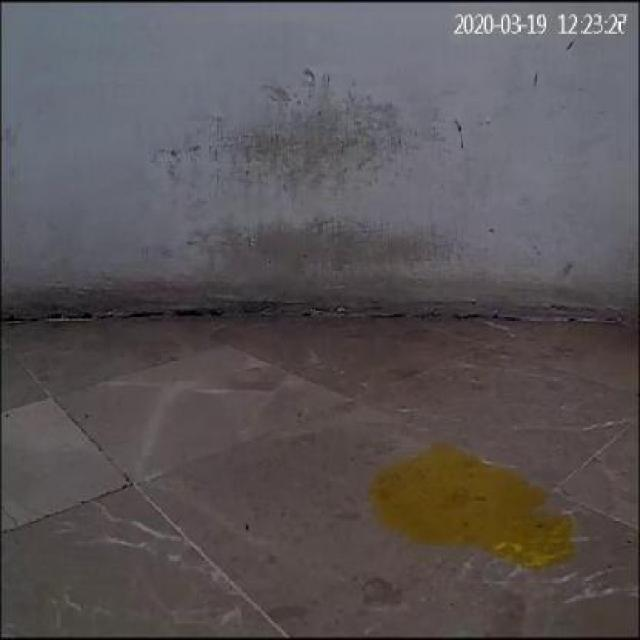spill: (368, 442, 578, 566)
